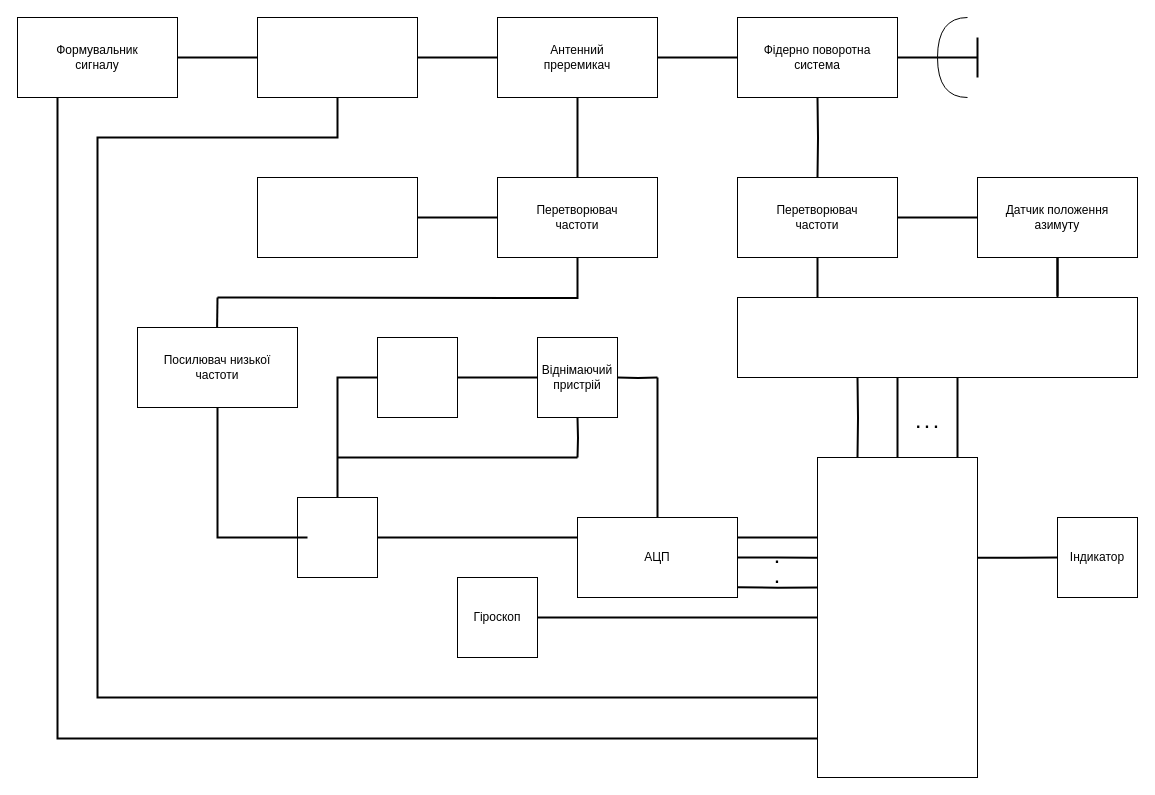
This 1155x795 diagram has some shape labels left out. Each missing label, with the centre of its shape:
"Блок вибору режиму" belongs at point 337,537.
"Гетеродиск" belongs at point 337,217.
"Драйвер живлення двигуна" belongs at point 937,337.
"Керований генератор високої частоти" belongs at point 337,57.
"Лінія затримки на період" belongs at point 417,377.
"Процессор керування і обробки" belongs at point 897,617.
